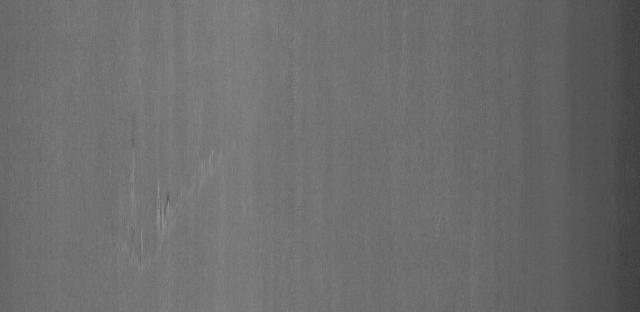silk_spot: (103, 141, 239, 281)
